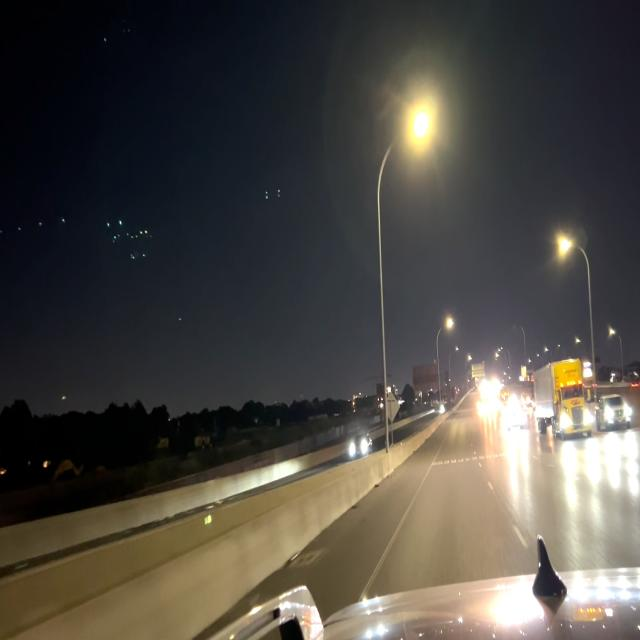back-of-sign: (412, 360, 440, 393), (384, 389, 400, 421)
